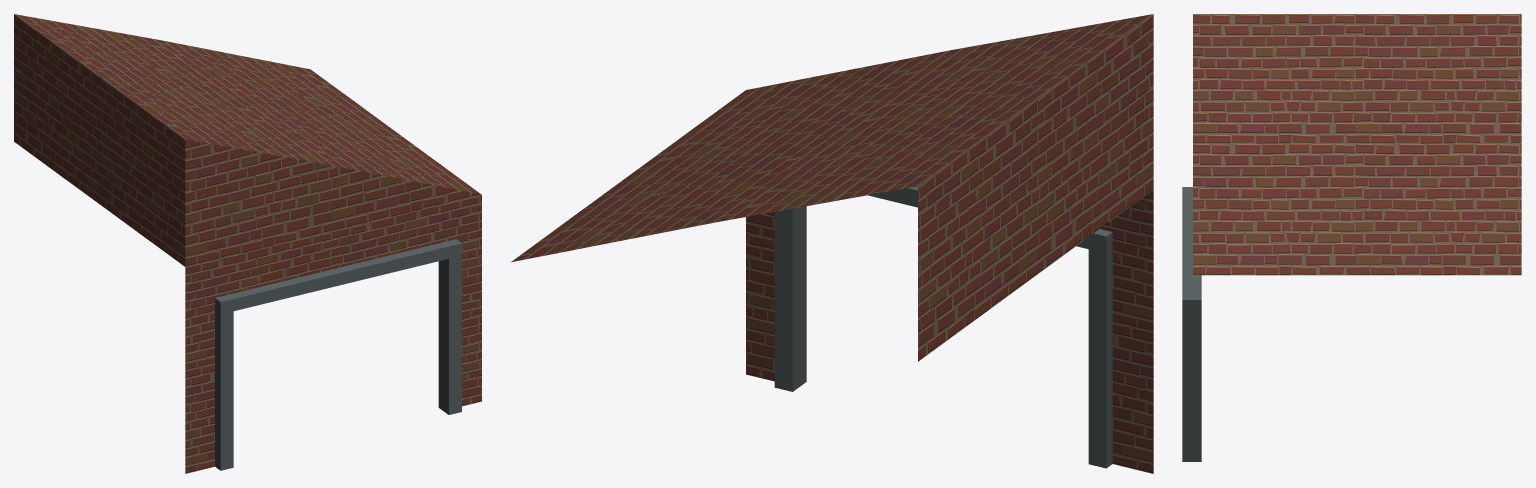
The model's file is Bock_A5(0).fbx.
3 renders of one model, left to right at view 1: azimuth 30°, elevation 25°; view 2: azimuth 150°, elevation 25°; view 3: azimuth 270°, elevation 25°, orthographic. The views are drawn at different scales.
Visible parts, largest first — view 1: Bock_A5; view 2: Bock_A5; view 3: Bock_A5.
Part boxes in pixels (bbox=[...]): Bock_A5: bbox=[14, 14, 481, 473]; Bock_A5: bbox=[511, 14, 1153, 473]; Bock_A5: bbox=[1182, 14, 1521, 461].
Size of the model in its own units: 600 by 647 by 620.
